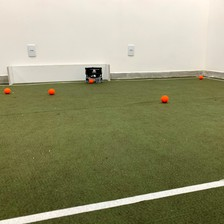ball: (1, 85, 12, 96), (159, 92, 169, 103), (46, 85, 56, 96), (196, 73, 203, 80), (87, 77, 94, 84)
goal: (6, 60, 112, 87)
robot: (82, 64, 104, 83)
